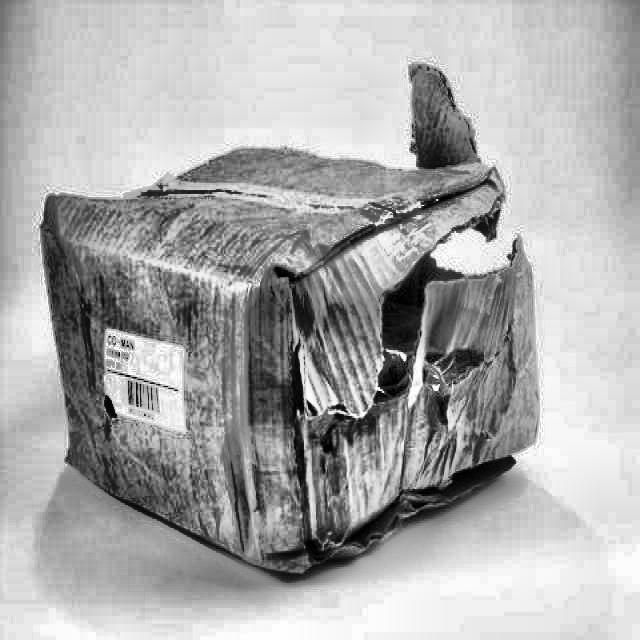box: (33, 124, 565, 589)
hole: (372, 190, 530, 408)
